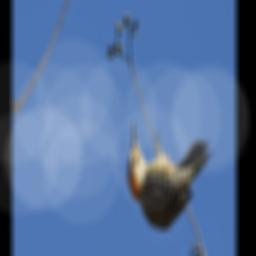Woodpecker: (119, 105, 218, 239)
